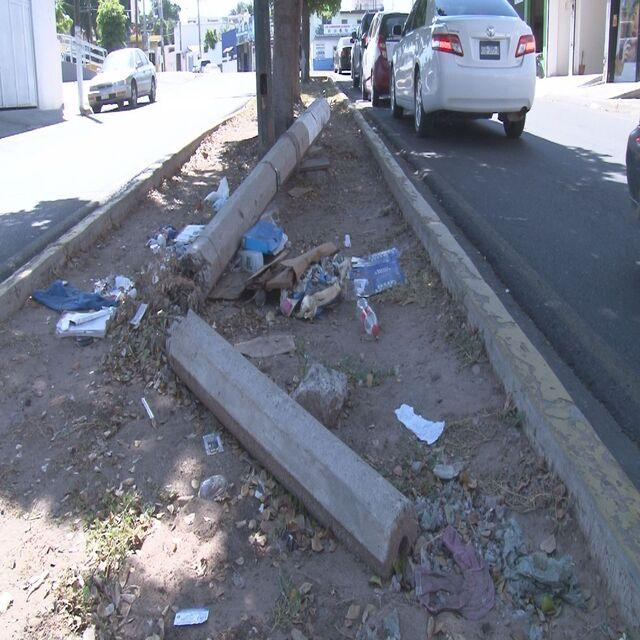Inclined Pole: (149, 90, 425, 584)
